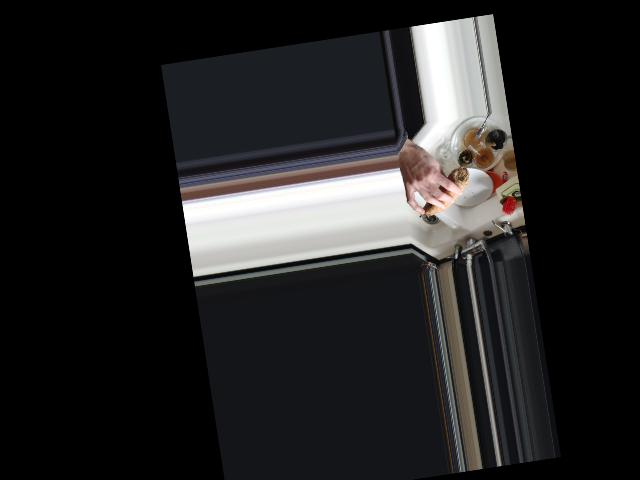sweet_potato: (412, 166, 472, 217)
